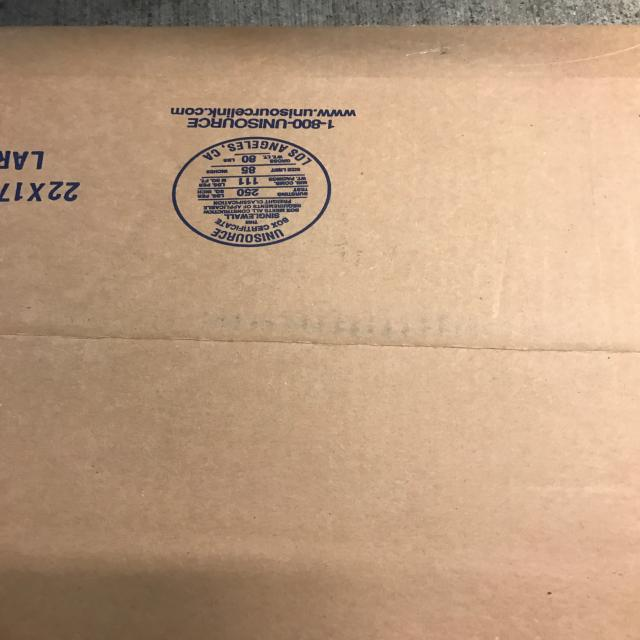cardboard: (1, 23, 639, 638)
